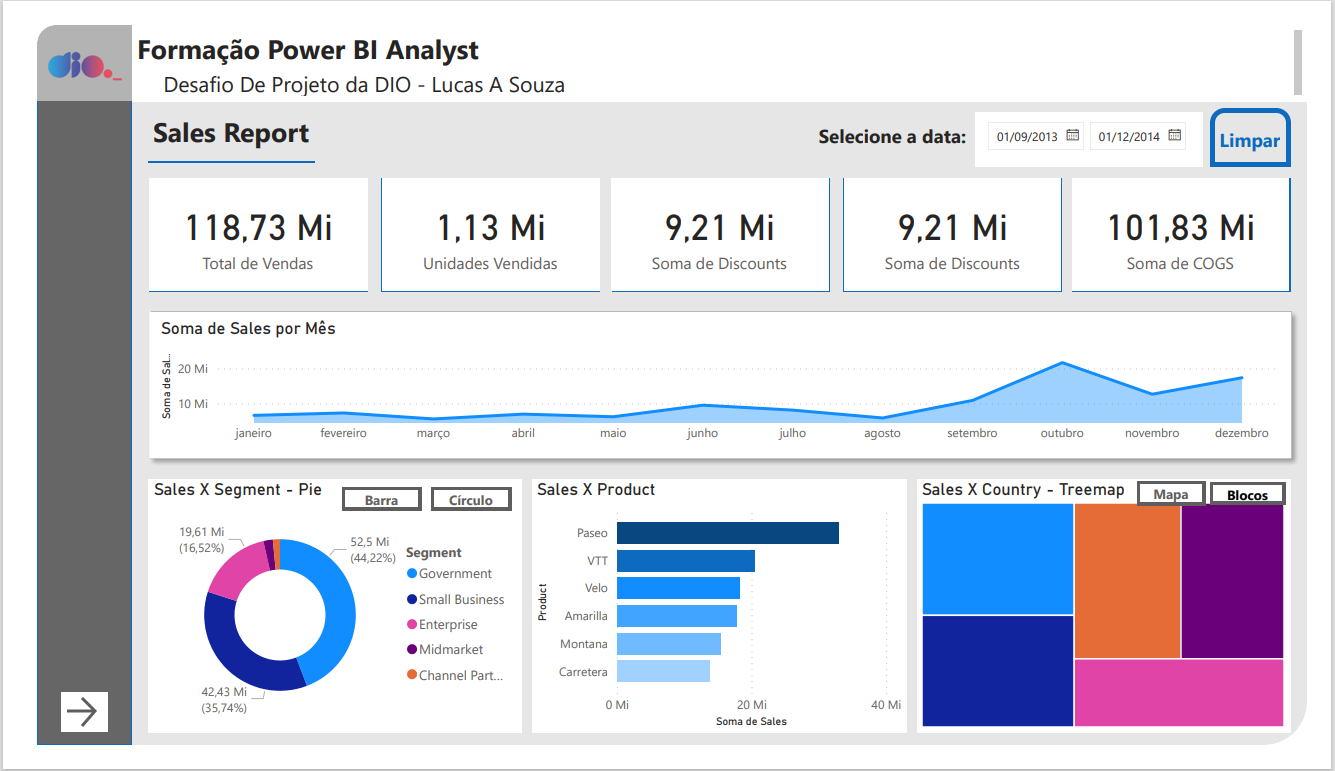

The dashboard page shown, as its layout file describes it:
{"tool":"powerbi","page":{"name":"Página 1","canvas":[1280,720],"ordinal":0},"visuals":[{"type":"shape","box":[9.7,0,1270.3,720.2],"z":0},{"type":"shape","title":"Limpar","box":[1183.2,83.4,81.6,59.4],"z":0,"group":"g2"},{"type":"shape","box":[121.5,131.2,166.7,12.4],"z":0,"group":"g5"},{"type":"shape","box":[122.4,153.4,217.7,112.7],"z":0,"group":"g1"},{"type":"shape","box":[9.7,0,95.2,720.2],"z":1000},{"type":"textbox","box":[121.5,83.3,186.2,47.9],"z":1000,"group":"g5"},{"type":"slicer","fields":{"Values":["financials.Date"]},"box":[948.2,86.9,227.9,55.9],"z":1000,"group":"g2"},{"type":"shape","box":[354.7,153.4,217.7,112.7],"z":1000,"group":"g1"},{"type":"donutChart","title":"Sales X Segment - Pie","fields":{"Y":["Sum(financials. Sales)"],"Category":["financials.Segment"]},"box":[122.7,454.5,371,252.3],"z":1000,"group":"g4"},{"type":"treemap","title":"Sales X Country - Treemap","fields":{"Group":["financials.Country"],"Values":["Sum(financials. Sales)"]},"box":[890.3,454.5,372,252.3],"z":1000,"group":"g3"},{"type":"actionButton","title":"Botão - Círculo","box":[404.5,462.3,79.5,22.6],"z":1250,"group":"g4"},{"type":"actionButton","title":"Botão - Mapa","box":[1109.9,456.3,68.4,23.9],"z":1500,"group":"g3"},{"type":"actionButton","title":"Botão - Barra","box":[315.1,462.3,79.5,22.6],"z":1500,"group":"g4"},{"type":"shape","box":[9.7,0,95.2,75.8],"z":2000},{"type":"textbox","box":[773.5,93.2,185.3,40.8],"z":2000,"group":"g2"},{"type":"shape","box":[585,153.4,217.7,112.7],"z":2000,"group":"g1"},{"type":"actionButton","title":"Botão - Blocos","box":[1182.9,457.4,75.2,21.7],"z":2000,"group":"g3"},{"type":"image","box":[9.8,0,95.2,83.4],"z":3000},{"type":"actionButton","title":"Botão_Limpar","box":[1183.2,94.9,80.7,39.9],"z":3000,"group":"g2"},{"type":"shape","box":[816.3,153.4,217.7,112.7],"z":3000,"group":"g1"},{"type":"textbox","box":[105,0,1175,75.8],"z":4000},{"type":"shape","box":[1045.7,153.4,217.7,112.7],"z":4000,"group":"g1"},{"type":"group","id":"g1","title":"Cartões","box":[122.4,153.4,1141,112.7],"z":5000},{"type":"card","fields":{"Values":["Sum(financials. Sales)"]},"box":[122.4,153.4,218.1,112.6],"z":5000,"group":"g1"},{"type":"card","fields":{"Values":["Sum(financials.Units Sold)"]},"box":[355.6,153.4,217.2,112.6],"z":6000,"group":"g1"},{"type":"shape","box":[114.4,277.5,1158.9,164.9],"z":6000},{"type":"card","fields":{"Values":["Sum(financials.Discounts)"]},"box":[584.4,153.4,217.2,112.6],"z":7000,"group":"g1"},{"type":"shape","box":[121.5,454,372.4,252.7],"z":7000},{"type":"card","fields":{"Values":["Sum(financials.Discounts)"]},"box":[817.6,153.4,217.2,112.6],"z":8000,"group":"g1"},{"type":"shape","box":[505.4,454,373.3,252.7],"z":8000},{"type":"card","fields":{"Values":["Sum(financials.COGS)"]},"box":[1045.5,153.4,217.2,112.6],"z":9000,"group":"g1"},{"type":"shape","box":[891.1,454,372.4,252.7],"z":9000},{"type":"areaChart","fields":{"Category":["financials.Date.Variation.Hierarquia de datas.Mês"],"Y":["Sum(financials. Sales)"]},"box":[129.5,293.5,1127,132.1],"z":10000},{"type":"clusteredBarChart","title":"Sales X Product","fields":{"Y":["Sum(financials. Sales)"],"Category":["financials.Product"]},"box":[505.4,454,373.3,252.7],"z":11000},{"type":"group","id":"g2","title":"Filtro por data","box":[773.5,83.4,491.2,59.4],"z":12000},{"type":"group","id":"g3","title":"Vendas x País","box":[890.3,454,373.2,252.8],"z":13000},{"type":"group","id":"g4","title":"Vendas x Segmento","box":[122.4,454,371.5,252.8],"z":14000},{"type":"group","id":"g5","title":"Título","box":[121.5,83.3,186.2,60.3],"z":15000},{"type":"actionButton","title":"Botão - Avançar","box":[34.4,666.5,45.2,40.2],"z":16000}]}

Visuals, with their boxes in screenshot pixels (x1, y1, x2, y2), scaled from the page's 1280x720 canvas onto the 1335x771 screenshot:
shape: left=10, top=0, right=1334, bottom=770
"Limpar" shape: left=1234, top=89, right=1319, bottom=153
shape: left=127, top=140, right=301, bottom=154
shape: left=128, top=164, right=355, bottom=285
shape: left=10, top=0, right=109, bottom=770
textbox: left=127, top=89, right=321, bottom=140
slicer - financials.Date: left=989, top=93, right=1227, bottom=153
shape: left=370, top=164, right=597, bottom=285
"Sales X Segment - Pie" donutChart: left=128, top=487, right=515, bottom=757
"Sales X Country - Treemap" treemap: left=929, top=487, right=1317, bottom=757
"Botão - Círculo" actionButton: left=422, top=495, right=505, bottom=519
"Botão - Mapa" actionButton: left=1158, top=489, right=1229, bottom=514
"Botão - Barra" actionButton: left=329, top=495, right=412, bottom=519
shape: left=10, top=0, right=109, bottom=81
textbox: left=807, top=100, right=1000, bottom=143
shape: left=610, top=164, right=837, bottom=285
"Botão - Blocos" actionButton: left=1234, top=490, right=1312, bottom=513
image: left=10, top=0, right=110, bottom=89
"Botão_Limpar" actionButton: left=1234, top=102, right=1318, bottom=144
shape: left=851, top=164, right=1078, bottom=285
textbox: left=110, top=0, right=1334, bottom=81
shape: left=1091, top=164, right=1318, bottom=285
"Cartões" group: left=128, top=164, right=1318, bottom=285
card - Sum(financials. Sales): left=128, top=164, right=355, bottom=285
card - Sum(financials.Units Sold): left=371, top=164, right=597, bottom=285
shape: left=119, top=297, right=1328, bottom=474
card - Sum(financials.Discounts): left=610, top=164, right=836, bottom=285
shape: left=127, top=486, right=515, bottom=757
card - Sum(financials.Discounts): left=853, top=164, right=1079, bottom=285
shape: left=527, top=486, right=916, bottom=757
card - Sum(financials.COGS): left=1090, top=164, right=1317, bottom=285
shape: left=929, top=486, right=1318, bottom=757
areaChart - financials.Date.Variation.Hierarquia de datas.Mês x Sum(financials. Sales): left=135, top=314, right=1310, bottom=456
"Sales X Product" clusteredBarChart: left=527, top=486, right=916, bottom=757
"Filtro por data" group: left=807, top=89, right=1319, bottom=153
"Vendas x País" group: left=929, top=486, right=1318, bottom=757
"Vendas x Segmento" group: left=128, top=486, right=515, bottom=757
"Título" group: left=127, top=89, right=321, bottom=154
"Botão - Avançar" actionButton: left=36, top=714, right=83, bottom=757
